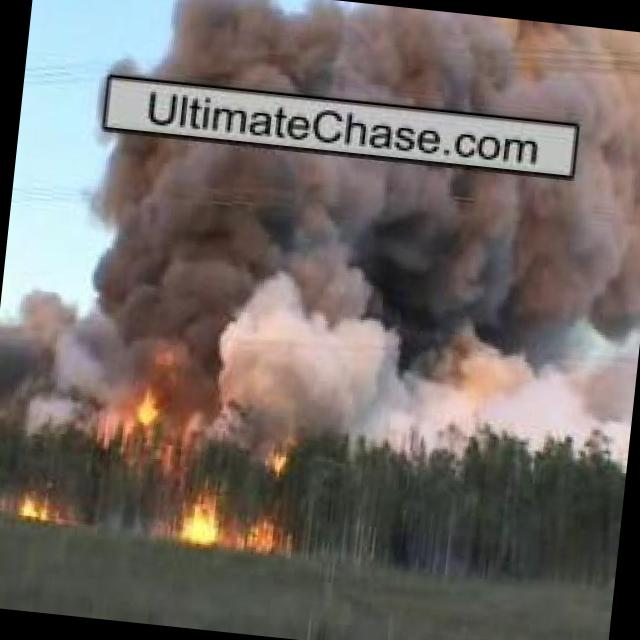Fire: (228, 430, 306, 552), (134, 375, 170, 449), (184, 482, 218, 546), (21, 490, 62, 524)
Smoke: (0, 119, 640, 445), (107, 0, 640, 131)
